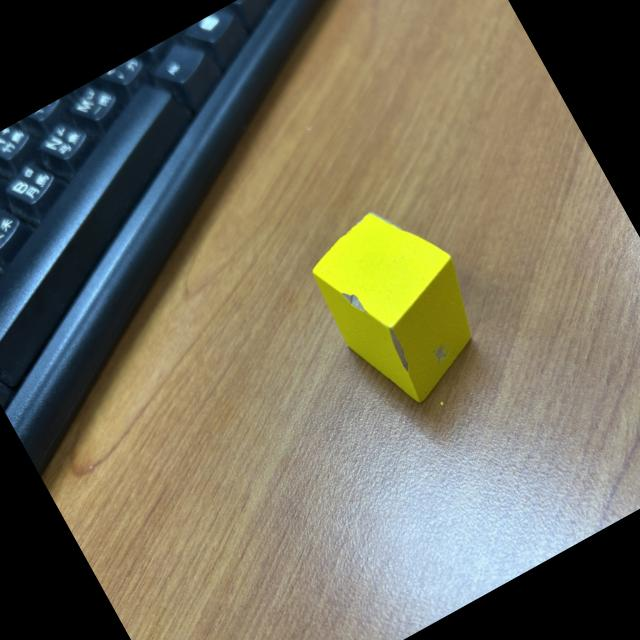broken: (296, 189, 504, 419)
